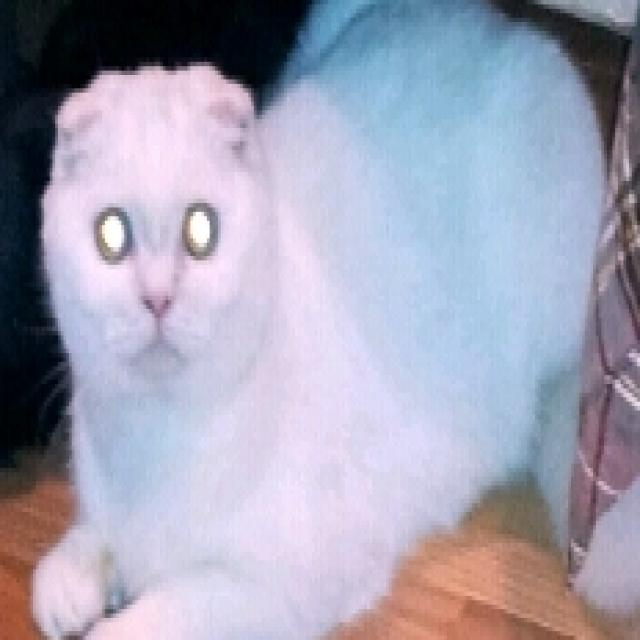Scottish Fold: (22, 0, 610, 640)
